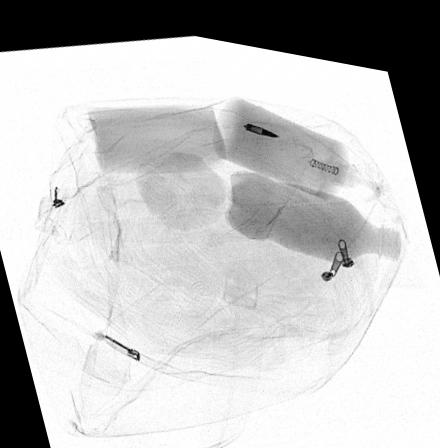Bullet: (242, 113, 279, 126)
